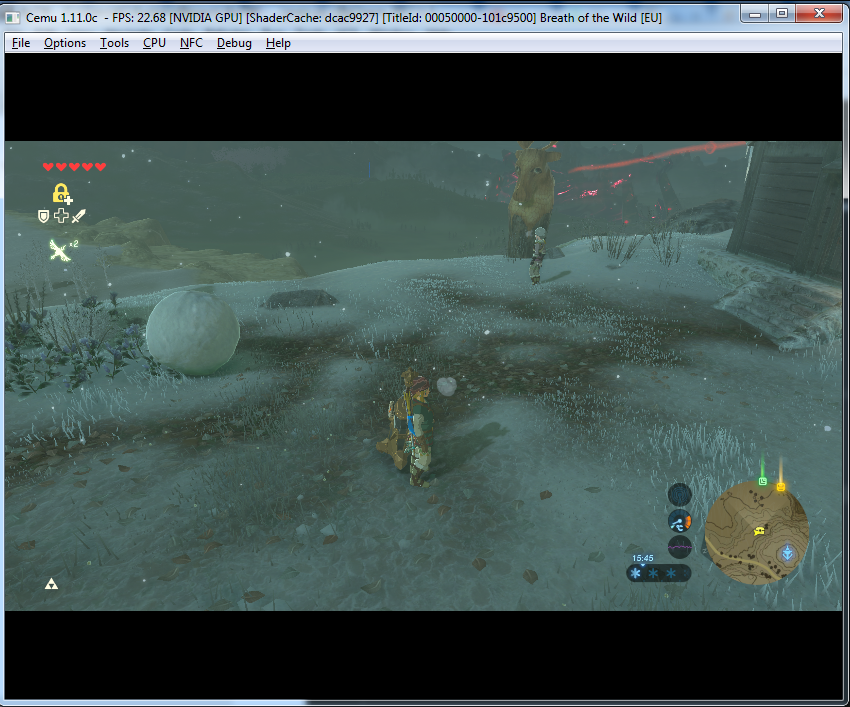dude: (525, 223, 550, 290)
link: (375, 360, 443, 501)
snowball: (138, 282, 255, 373)
totem: (506, 140, 556, 262)
